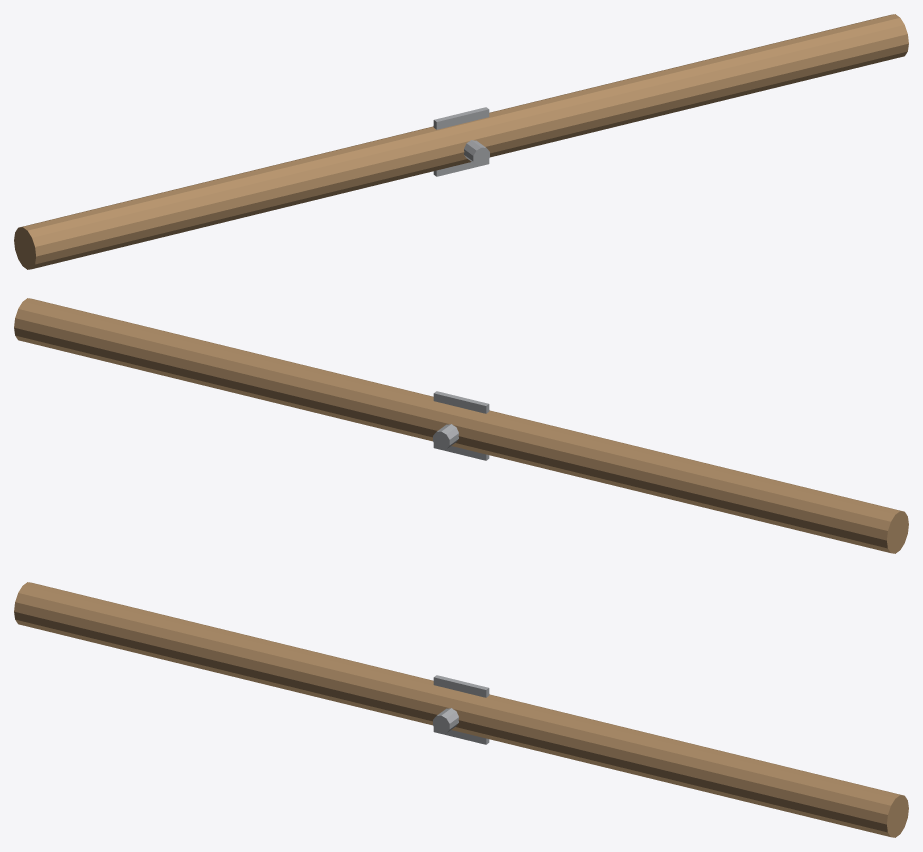
File: railing-handrail-1m.glb
3 views of the same model, one above another, from view 1: azimuth 30°, elevation 25°; view 2: azimuth 150°, elevation 25°; view 3: azimuth 330°, elevation 25° (orthographic).
Visible parts, largest first — view 1: Handrail, Plate_0.15; view 2: Handrail, Plate_0.15; view 3: Handrail, Plate_0.15.
Boxes of the visible parts, x1,y1,x2,y2 form: Handrail: (14, 14, 908, 269); Plate_0.15: (433, 107, 489, 176); Handrail: (14, 298, 908, 553); Plate_0.15: (433, 391, 489, 460); Handrail: (14, 582, 908, 837); Plate_0.15: (433, 675, 489, 744).
Size of the model in its own units: 1 by 0.06 by 0.08.
